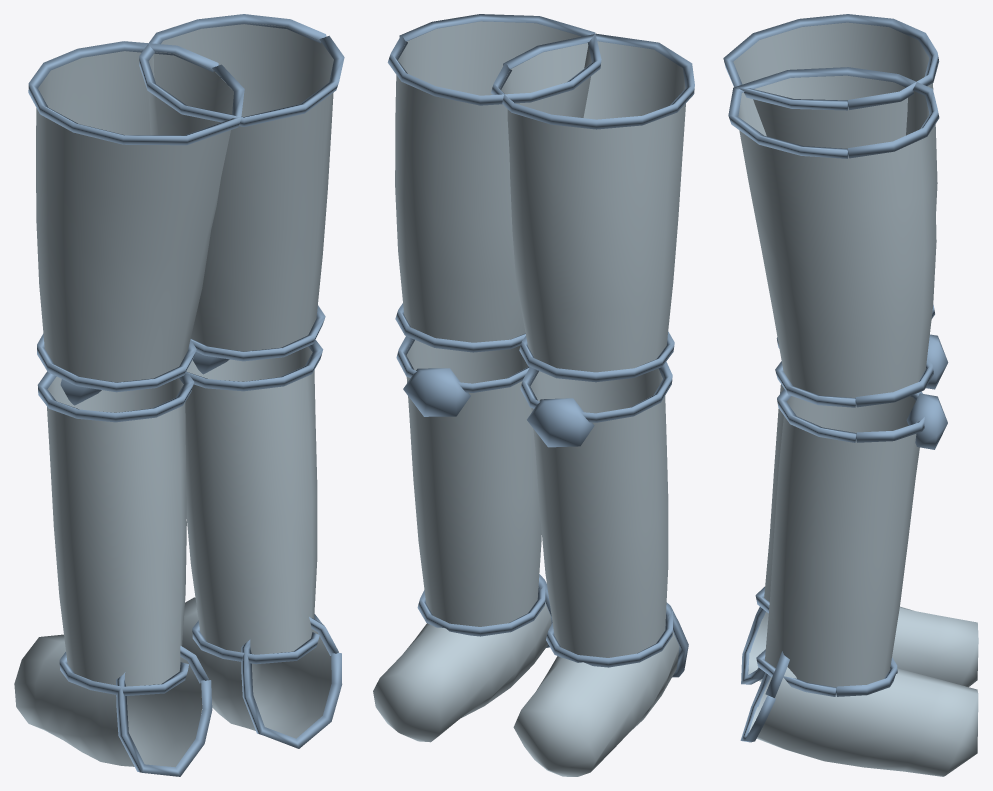
File: platinum_greaves.glb
The picture shows the model from 3 angles, left to right: view 1: azimuth 30°, elevation 25°; view 2: azimuth 150°, elevation 25°; view 3: azimuth 270°, elevation 25°; orthographic projection. The views are drawn at different scales.
Parts seen in each view (by area): view 1: platinum_greaves_cuisse.L; view 2: platinum_greaves_cuisse.L; view 3: platinum_greaves_cuisse.L.
Boxes of the visible parts, bbox=[...] form: platinum_greaves_cuisse.L: bbox=[14, 14, 344, 776]; platinum_greaves_cuisse.L: bbox=[373, 14, 694, 776]; platinum_greaves_cuisse.L: bbox=[723, 14, 978, 776].
Size of the model in its own units: 0.4249 by 0.9563 by 0.3366.
